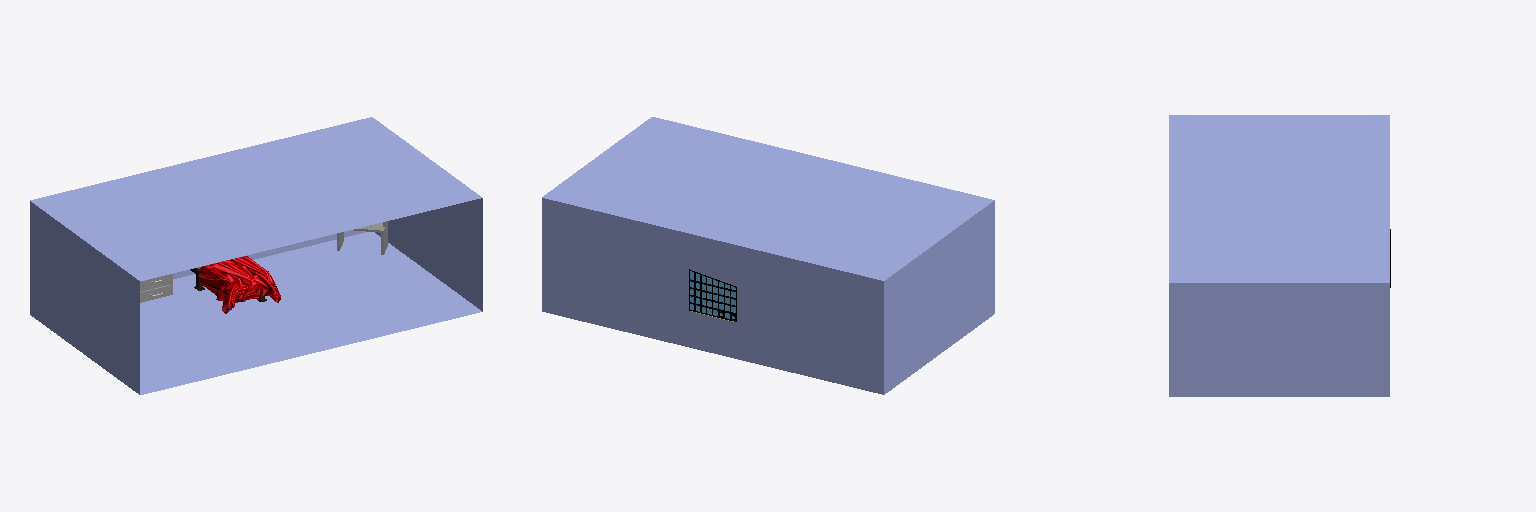
3 renders of one model, left to right at view 1: azimuth 30°, elevation 25°; view 2: azimuth 150°, elevation 25°; view 3: azimuth 270°, elevation 25°, orthographic.
Parts seen in each view (by area): view 1: Cube.002_Cube.006, Blanket_Plane, Dresser_Cube.003; view 2: Cube.002_Cube.006, Window; view 3: Cube.002_Cube.006.
Boxes of the visible parts, x1,y1,x2,y2 form: Cube.002_Cube.006: [30, 117, 482, 394]; Blanket_Plane: [199, 256, 280, 313]; Dresser_Cube.003: [140, 274, 172, 302]; Cube.002_Cube.006: [542, 117, 994, 394]; Window: [689, 269, 736, 322]; Cube.002_Cube.006: [1169, 115, 1389, 396].
Size of the model in its own units: 62.95 by 20 by 35.38.
Materials: 12 (5 with a texture image).